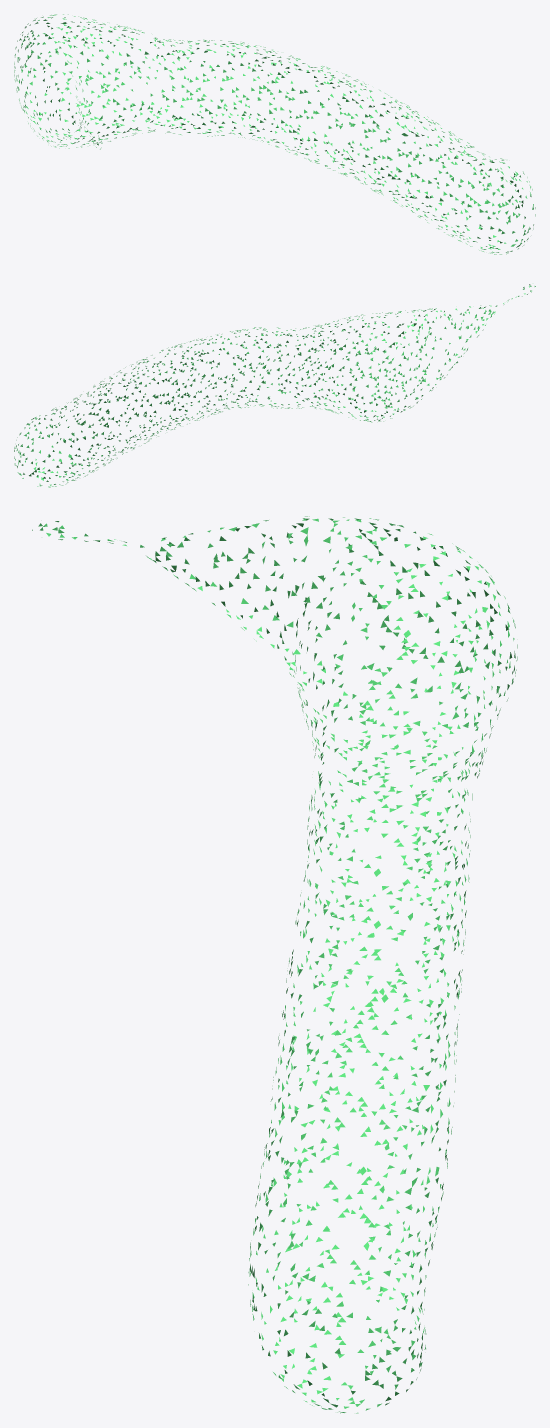
File: morph_020.glb
3 renders of one model, top to bottom at view 1: azimuth 30°, elevation 25°; view 2: azimuth 150°, elevation 25°; view 3: azimuth 270°, elevation 25°, orthographic. The views are drawn at different scales.
Size of the model in its own units: 101 by 59.26 by 49.16.
